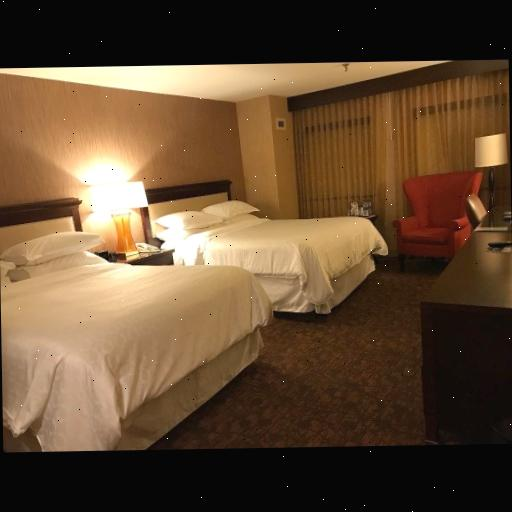chair: (389, 172, 484, 262)
clean_bed: (3, 198, 272, 455), (147, 177, 388, 317)
clean_floor: (150, 255, 451, 452)
lamp: (84, 176, 158, 262), (468, 135, 512, 224)
organised_pillow: (0, 227, 110, 288), (158, 200, 263, 240)
